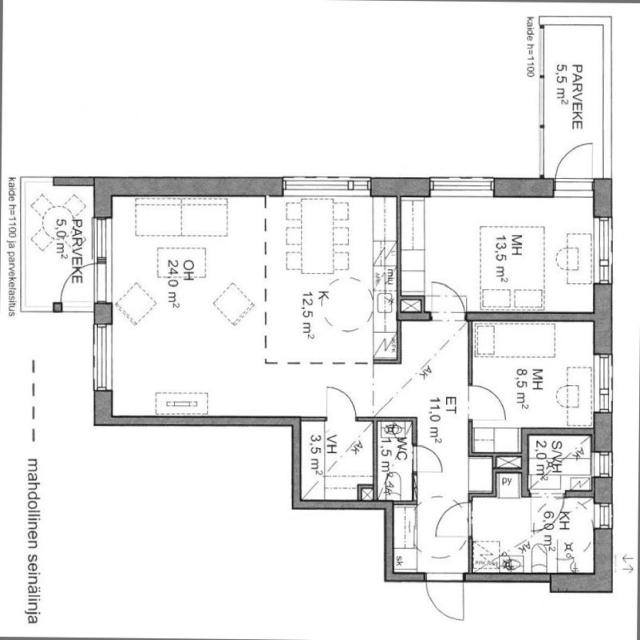door: (304, 408, 372, 502), (421, 570, 468, 626), (550, 137, 597, 190), (53, 261, 99, 312), (430, 500, 474, 546), (425, 276, 469, 321), (464, 382, 508, 425), (322, 384, 361, 426), (411, 443, 446, 477), (92, 387, 113, 406)
window: (279, 172, 372, 197), (89, 314, 116, 400), (424, 172, 500, 200), (591, 211, 617, 289), (590, 348, 618, 417), (88, 212, 114, 261), (534, 30, 549, 81), (592, 447, 615, 480), (593, 501, 613, 530)
zone: (107, 191, 268, 422), (402, 192, 603, 315), (262, 191, 398, 368), (468, 320, 598, 438), (471, 492, 597, 573), (300, 416, 376, 503), (526, 432, 594, 494), (375, 418, 415, 501), (422, 570, 467, 628)
